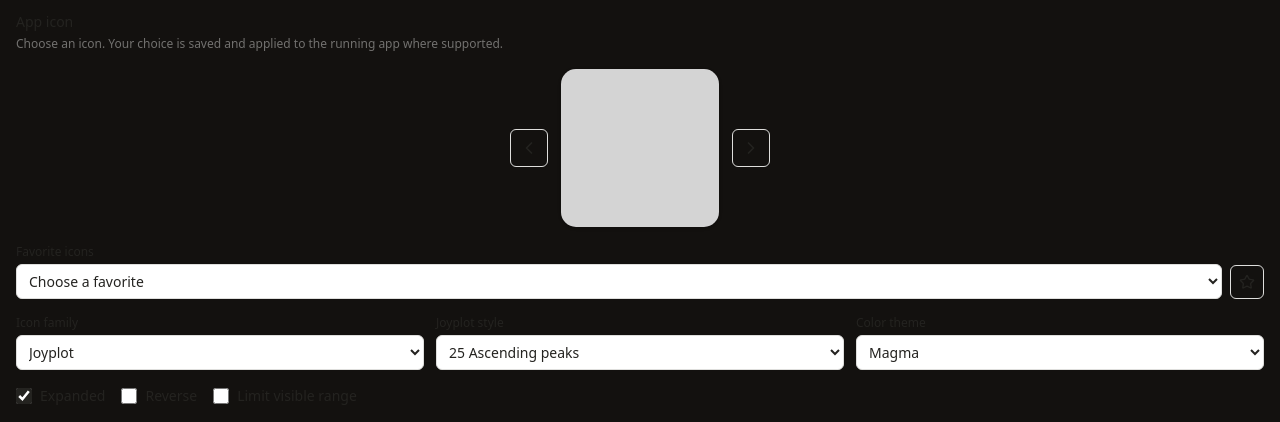
Test case: AppIconGallery › every Pi font remains available one at a time
Check: the dropdown with test id "settings-app-icon-style" is shown, box [436,335,844,370]
Select "Pi Lab" in the dropdown with test id "settings-app-icon-family" at (220, 352), box [16,335,424,370]
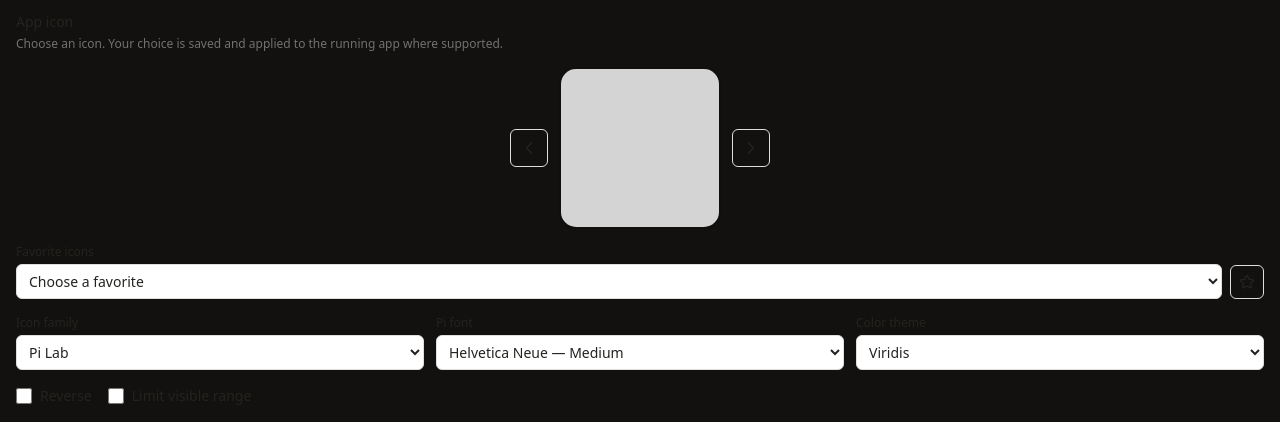
Click the button with test id "settings-app-icon-previous" at (529, 148), box [510,129,548,167]
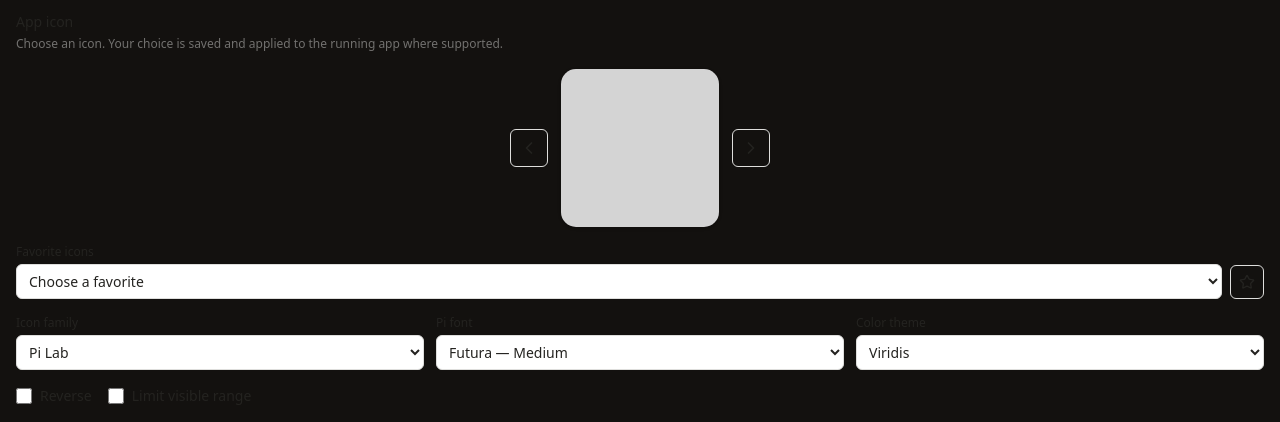
Check: the dropdown with test id "settings-app-icon-font" shows "Futura — Medium", box [436,335,844,370]
